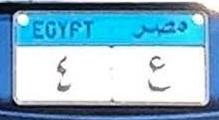4: (51, 54, 75, 95)
ain: (146, 49, 172, 98)
